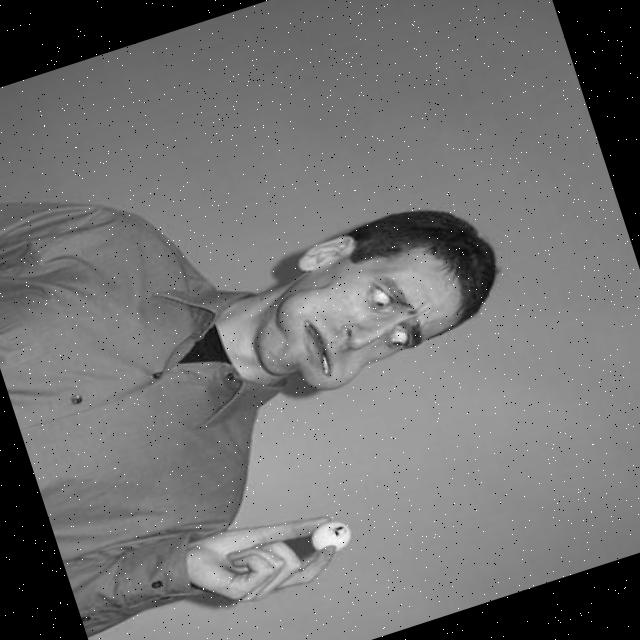ping-pong-ball: (306, 516, 355, 559)
